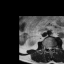CCS_stenosis: (49, 45, 50, 51)
LFS_normal: (52, 45, 54, 50)
LLS_normal: (51, 45, 52, 50)
RFS_normal: (46, 45, 48, 50)
RLS_normal: (48, 45, 49, 50)
